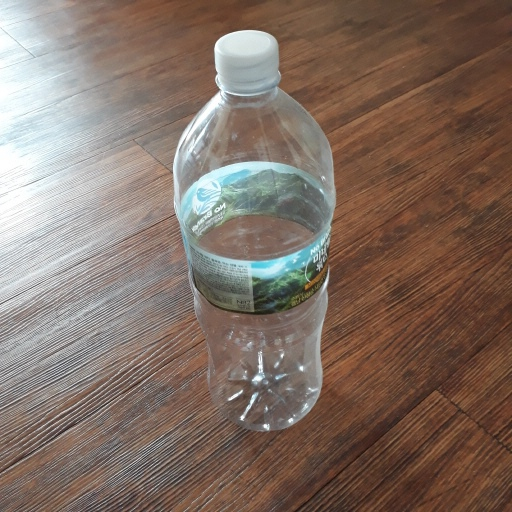Plastic_0: (170, 28, 336, 433)
